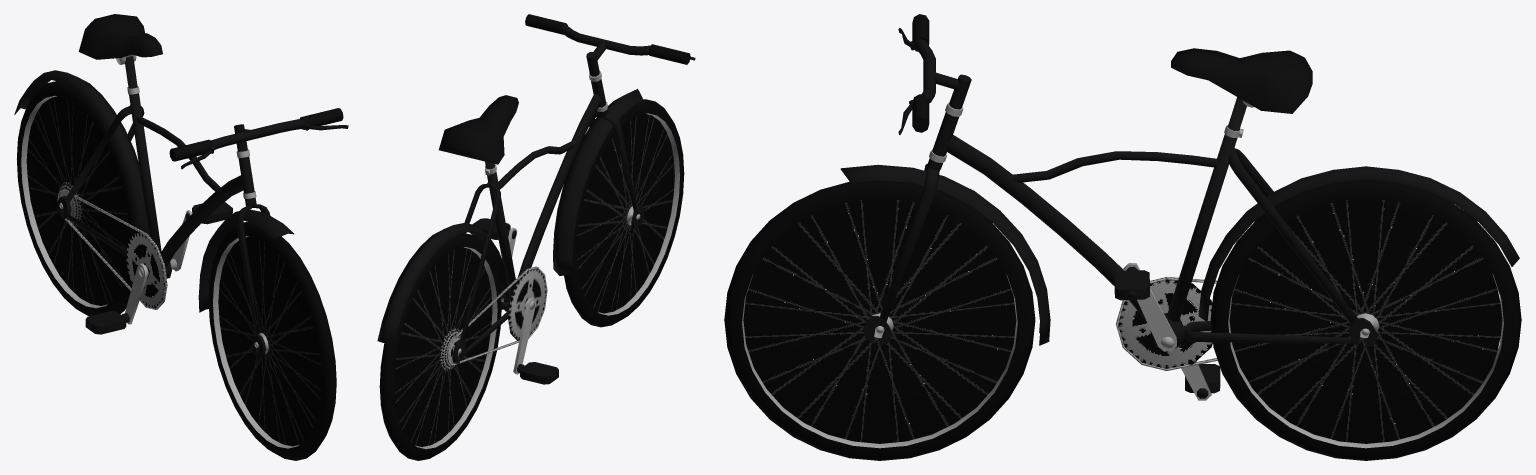
Rendered from bicycle.obj.
The picture shows the model from 3 angles, left to right: view 1: azimuth 30°, elevation 25°; view 2: azimuth 150°, elevation 25°; view 3: azimuth 270°, elevation 25°; orthographic projection. The views are drawn at different scales.
Parts seen in each view (by area): view 1: bicycle_Circle, textured_Torus.005; view 2: bicycle_Circle, textured_Torus.005; view 3: textured_Torus.005, bicycle_Circle.
Boxes of the visible parts, <box> form: bicycle_Circle: <box>14,14,348,460</box>; textured_Torus.005: <box>26,96,321,446</box>; bicycle_Circle: <box>377,14,695,460</box>; textured_Torus.005: <box>394,114,674,446</box>; textured_Torus.005: <box>743,198,1502,443</box>; bicycle_Circle: <box>724,14,1521,460</box>.
Bounding box in the file's own units: 45.97 × 84.33 × 149.
8 materials, 1 textured.
